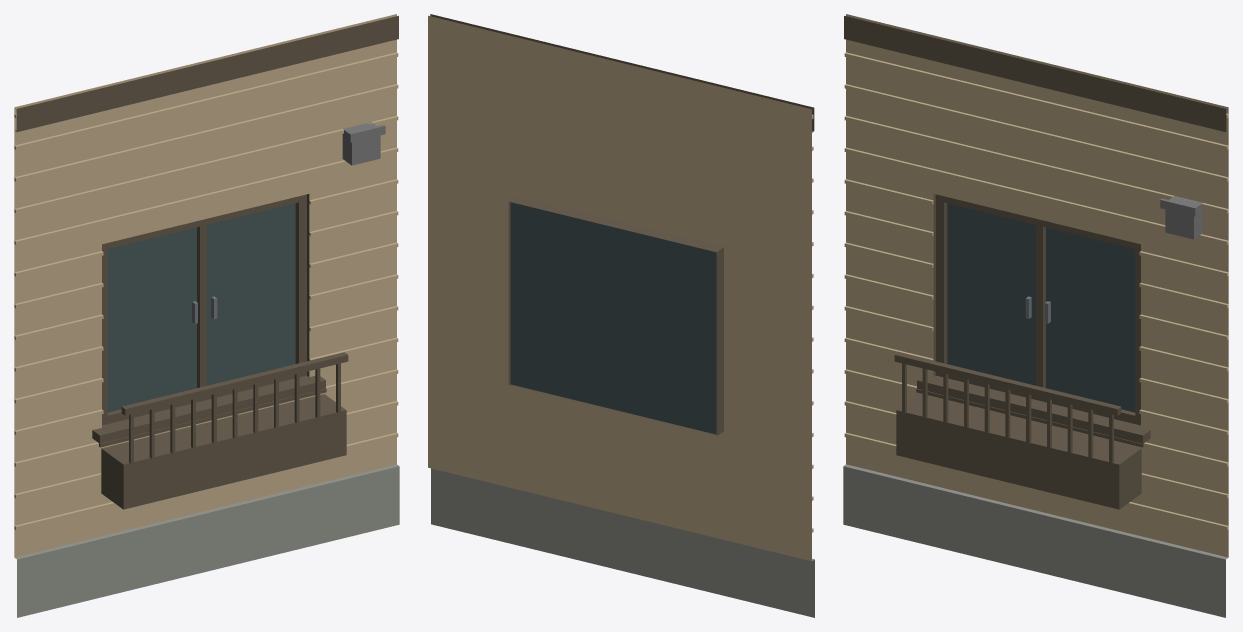
Rendered from base-w3_close.fbx.
3 renders of one model, left to right at view 1: azimuth 30°, elevation 25°; view 2: azimuth 150°, elevation 25°; view 3: azimuth 330°, elevation 25°, orthographic.
Parts seen in each view (by area): view 1: a2015/0/base-w3_close; view 2: a2015/0/base-w3_close; view 3: a2015/0/base-w3_close.
Part boxes in pixels (x1,y1,x2,y2): a2015/0/base-w3_close: (14,14,399,617); a2015/0/base-w3_close: (428,14,814,617); a2015/0/base-w3_close: (843,14,1228,617).
Size of the model in its own units: 2.4 by 3.05 by 0.42.
